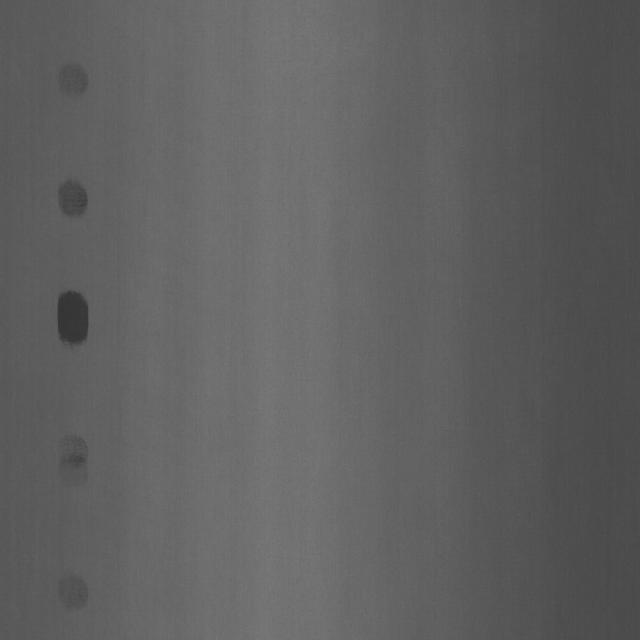welding_line: (54, 283, 94, 356), (51, 434, 92, 491), (54, 561, 90, 616), (57, 171, 92, 223), (56, 59, 88, 100)
